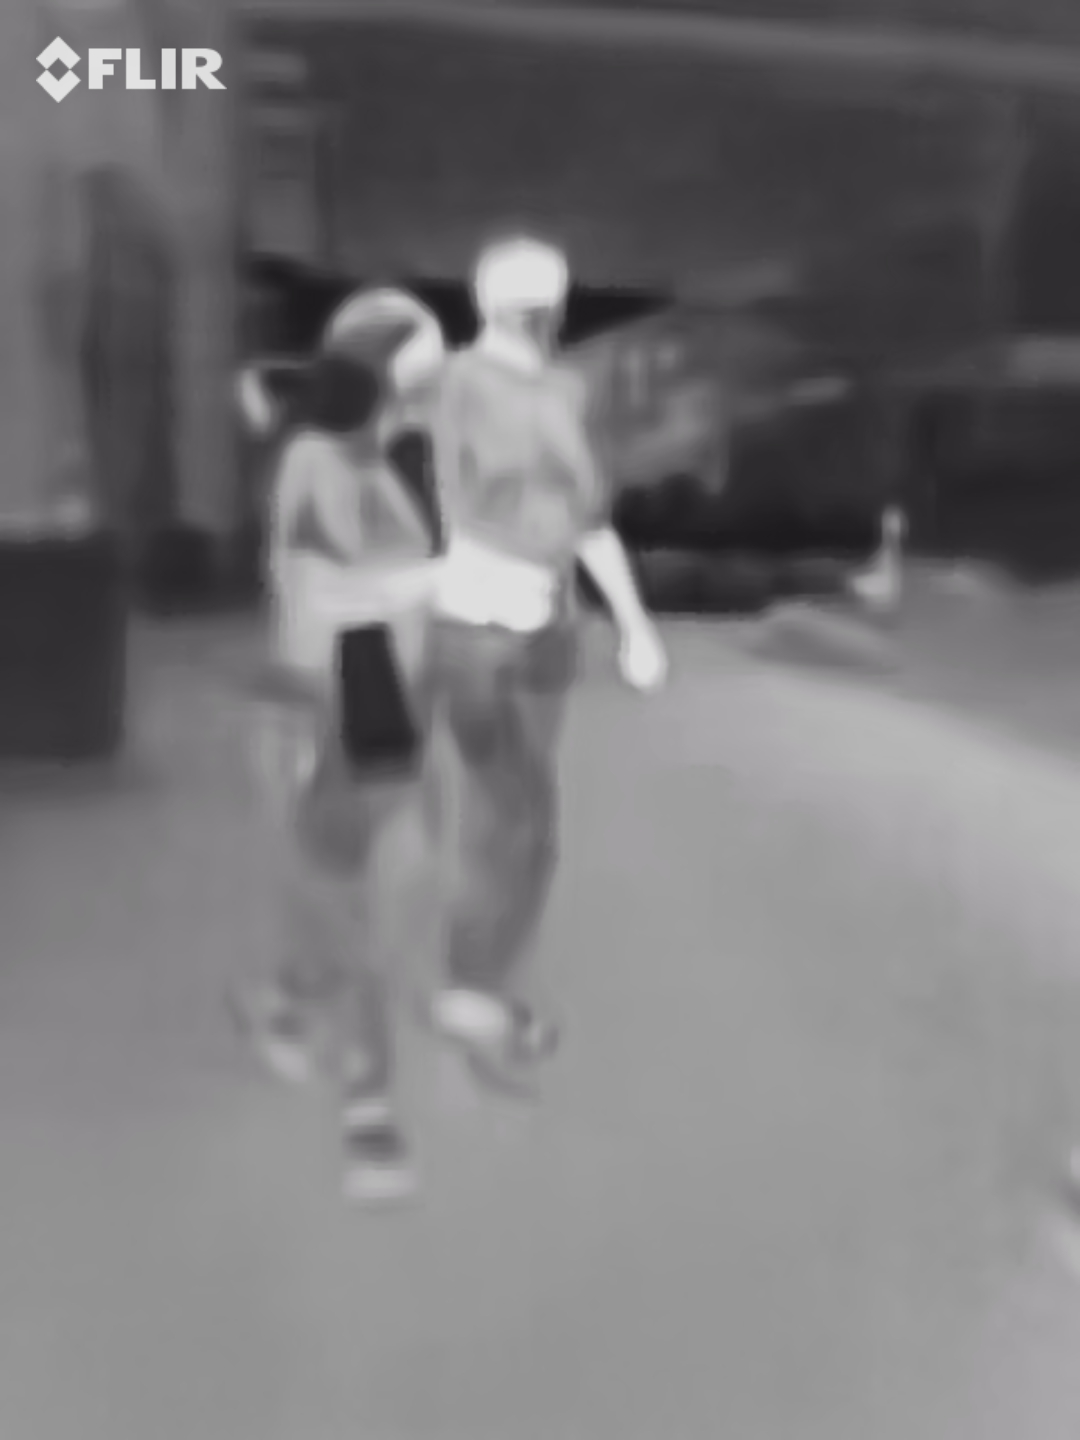head: (329, 280, 444, 441), (468, 234, 582, 354)
